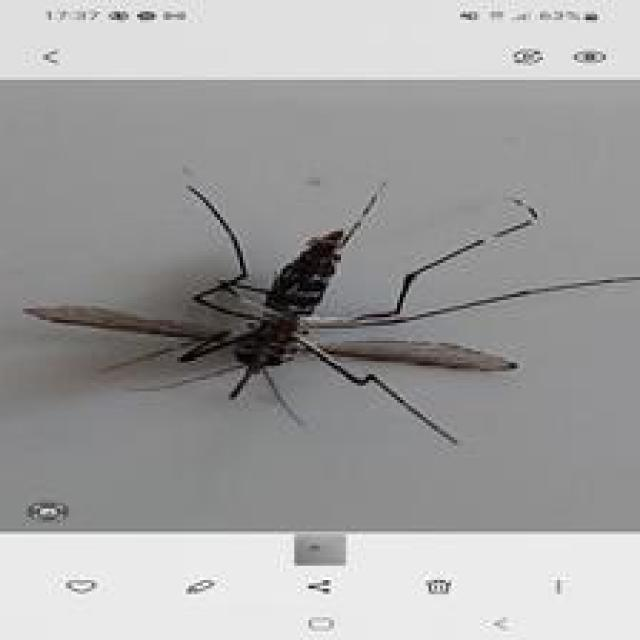Aedes albopictus: (23, 179, 640, 447)
